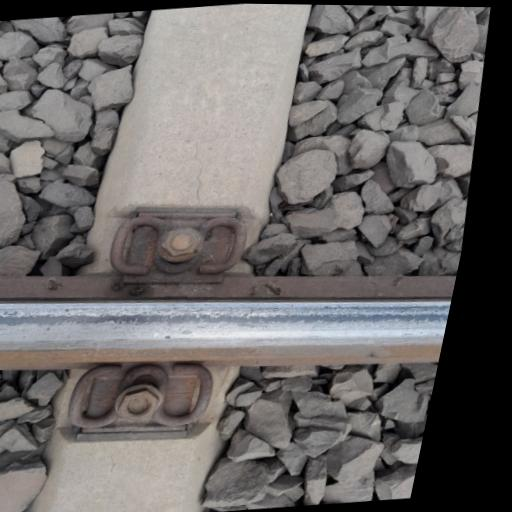bolt: (143, 215, 219, 265), (100, 383, 174, 433)
clip: (51, 352, 240, 452), (84, 197, 269, 290)
rail: (32, 295, 414, 378)
